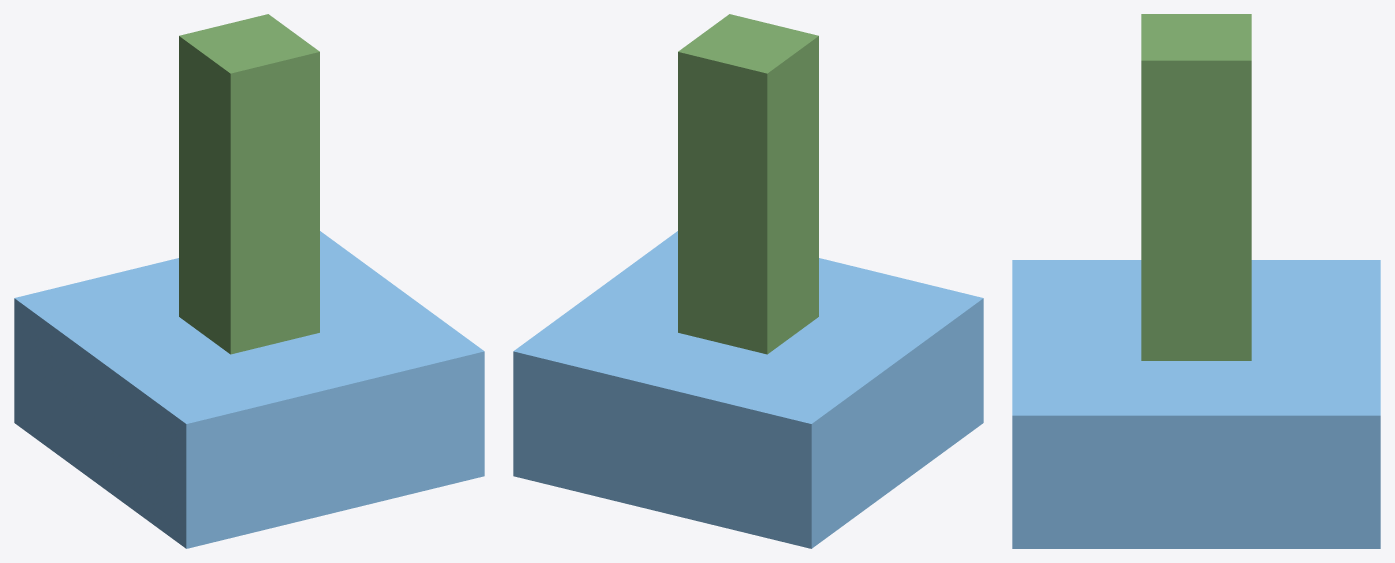
The model's file is Item_DS_Herb_BufferBloom.glb.
The picture shows the model from 3 angles, left to right: view 1: azimuth 30°, elevation 25°; view 2: azimuth 150°, elevation 25°; view 3: azimuth 270°, elevation 25°; orthographic projection. The views are drawn at different scales.
Parts seen in each view (by area): view 1: Item_DS_Herb_BufferBloom; view 2: Item_DS_Herb_BufferBloom; view 3: Item_DS_Herb_BufferBloom.
Part boxes in pixels (<box>): Item_DS_Herb_BufferBloom: <box>14,14,484,548</box>; Item_DS_Herb_BufferBloom: <box>513,14,983,548</box>; Item_DS_Herb_BufferBloom: <box>1012,14,1380,548</box>.
Bounding box in the file's own units: 0.2 × 0.26 × 0.2.
